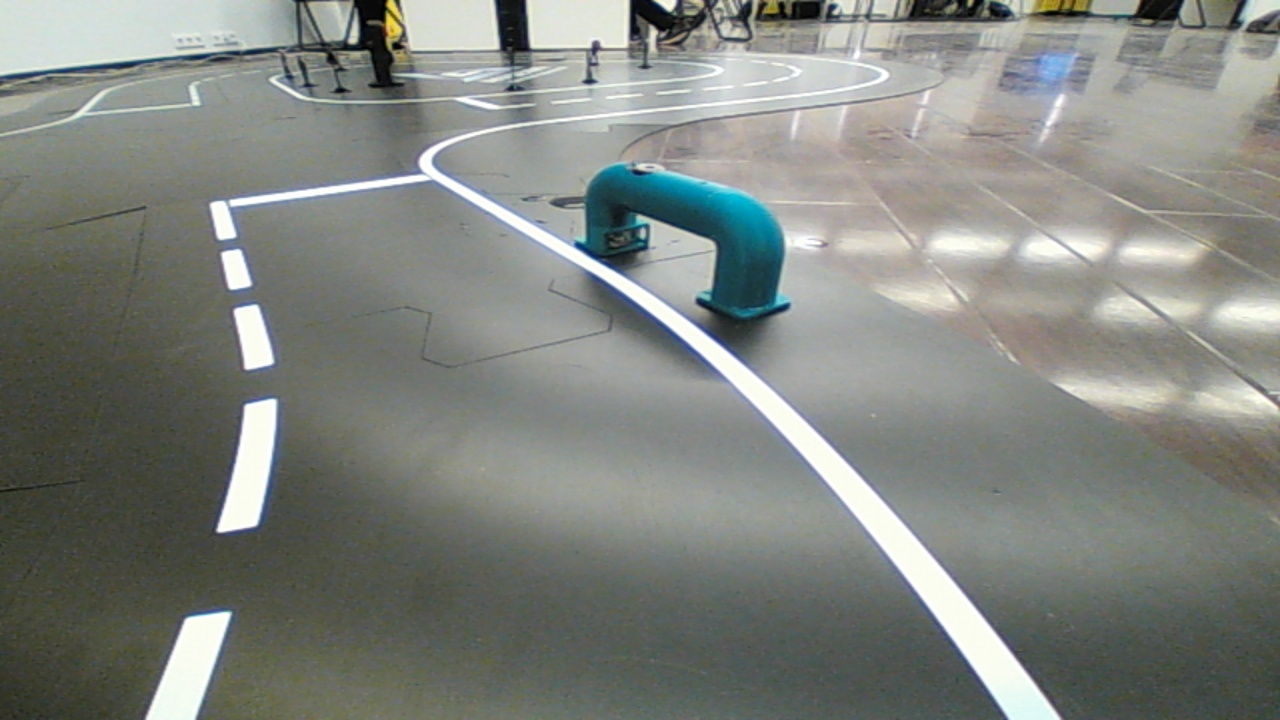Pedestrian crossing: (563, 140, 803, 330)
